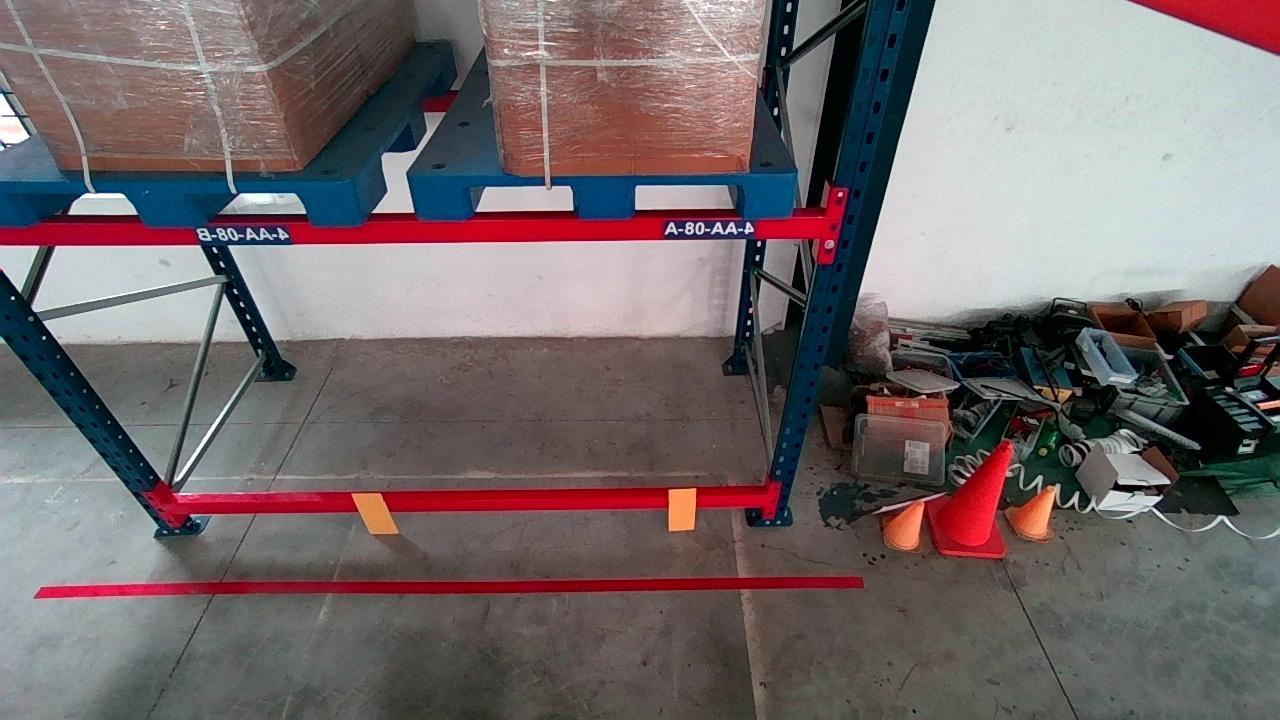h_rack: (0, 216, 828, 248), (169, 489, 765, 517)
orange_strip: (354, 492, 397, 534), (667, 486, 699, 530)
red_line: (34, 572, 862, 600)
small_pallet: (419, 172, 796, 218), (1, 178, 357, 226)
